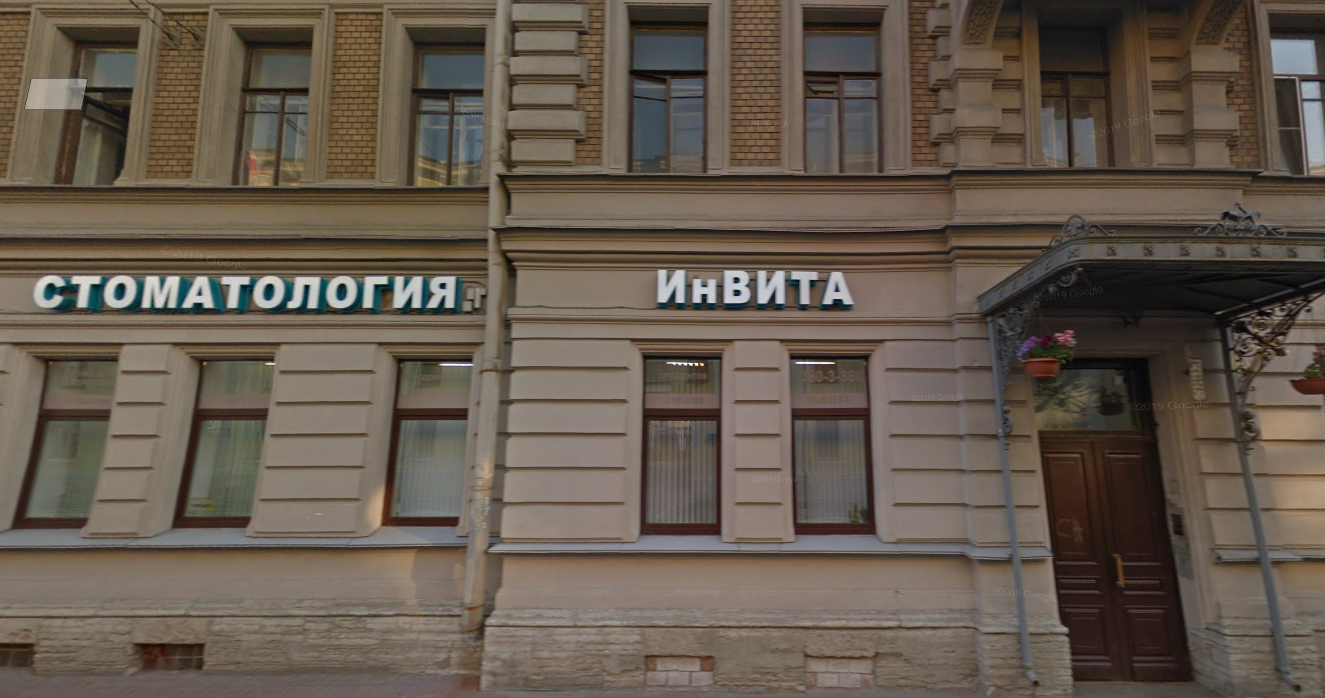door: (1041, 430, 1193, 686)
signboard: (31, 263, 465, 318), (651, 268, 857, 317)
window: (170, 354, 278, 528), (10, 358, 119, 526), (641, 349, 725, 538), (380, 354, 473, 524), (790, 358, 877, 532), (403, 36, 491, 187), (629, 23, 707, 172), (803, 27, 880, 172), (57, 45, 137, 181), (1044, 21, 1111, 167), (233, 46, 305, 179), (1034, 359, 1153, 423), (1272, 35, 1325, 175)
